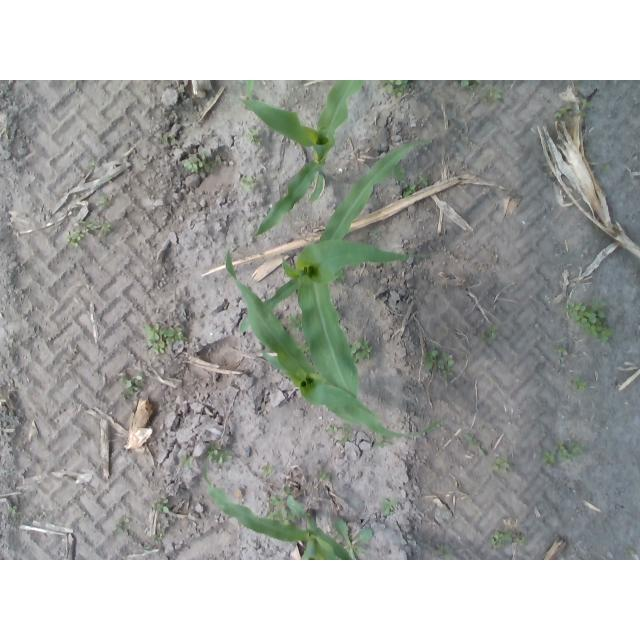Maize: (239, 139, 446, 439), (223, 251, 393, 426), (239, 81, 366, 235), (204, 470, 353, 560), (245, 81, 256, 96)
Weeds: (569, 300, 611, 341), (333, 519, 375, 546), (184, 151, 217, 173), (146, 322, 167, 354), (209, 443, 232, 467), (122, 372, 143, 395), (556, 442, 585, 458), (381, 80, 407, 96), (242, 173, 262, 191), (268, 498, 284, 519), (67, 231, 84, 247), (556, 104, 573, 120), (494, 456, 510, 473), (97, 217, 112, 235), (426, 350, 439, 370), (76, 219, 96, 231), (166, 327, 183, 341), (351, 342, 365, 359), (483, 325, 497, 341), (153, 500, 170, 513), (384, 498, 397, 514), (489, 85, 501, 102), (579, 99, 590, 117), (543, 451, 554, 468), (317, 472, 332, 484), (181, 456, 196, 468), (343, 424, 352, 444), (493, 531, 504, 547), (247, 126, 258, 142), (574, 380, 587, 393), (440, 356, 453, 369), (512, 534, 527, 545), (118, 518, 131, 530), (419, 172, 430, 186), (405, 184, 416, 197), (461, 81, 481, 88), (398, 166, 407, 181), (360, 342, 372, 353), (554, 347, 568, 355), (99, 197, 110, 207), (163, 135, 176, 143), (477, 447, 487, 457), (464, 433, 474, 442), (327, 424, 338, 432), (437, 545, 445, 555), (443, 370, 454, 377), (262, 466, 270, 475), (88, 159, 95, 169), (154, 534, 163, 541), (255, 138, 261, 146)
